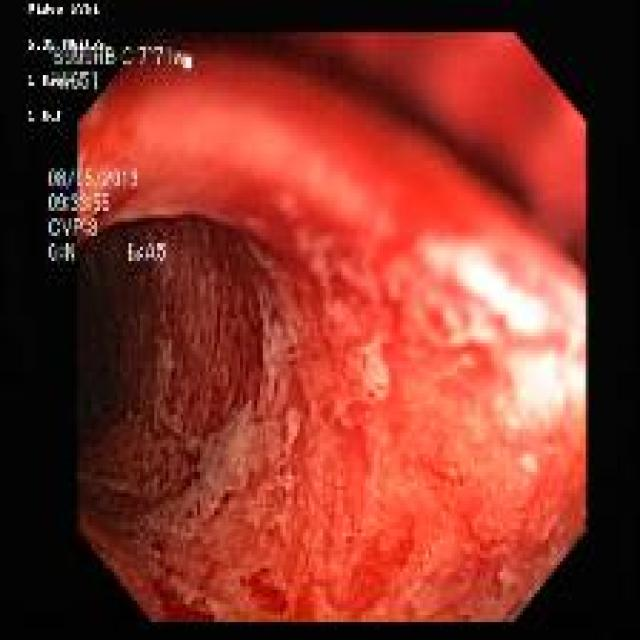ulcerative-colitis: (80, 214, 584, 621)
